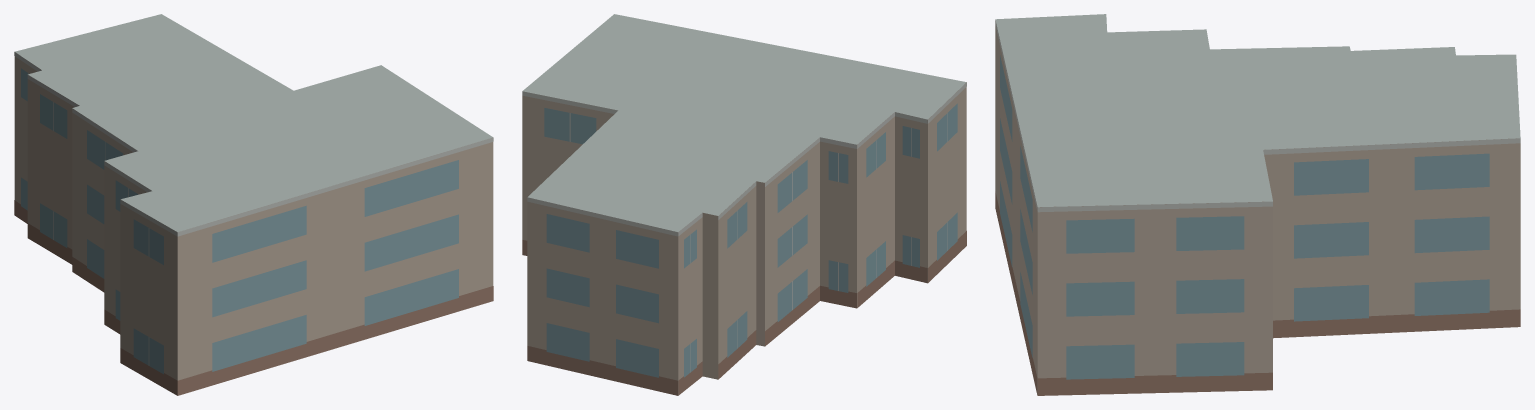
File: survey-upis-32481919.glb
The picture shows the model from 3 angles, left to right: view 1: azimuth 30°, elevation 25°; view 2: azimuth 150°, elevation 25°; view 3: azimuth 270°, elevation 25°; orthographic projection. The views are drawn at different scales.
Parts seen in each view (by area): view 1: survey-upis-32481919.tmp; view 2: survey-upis-32481919.tmp; view 3: survey-upis-32481919.tmp.
Part boxes in pixels (x1=…): survey-upis-32481919.tmp: x1=14, y1=14, x2=493, y2=395; survey-upis-32481919.tmp: x1=522, y1=14, x2=966, y2=395; survey-upis-32481919.tmp: x1=995, y1=14, x2=1520, y2=395.
Size of the model in its own units: 20.1 by 9.15 by 23.09.
